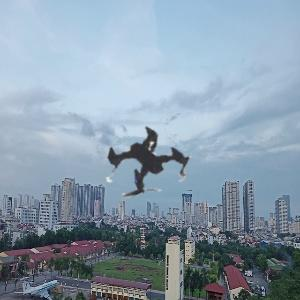drone: (35, 53, 263, 281)
